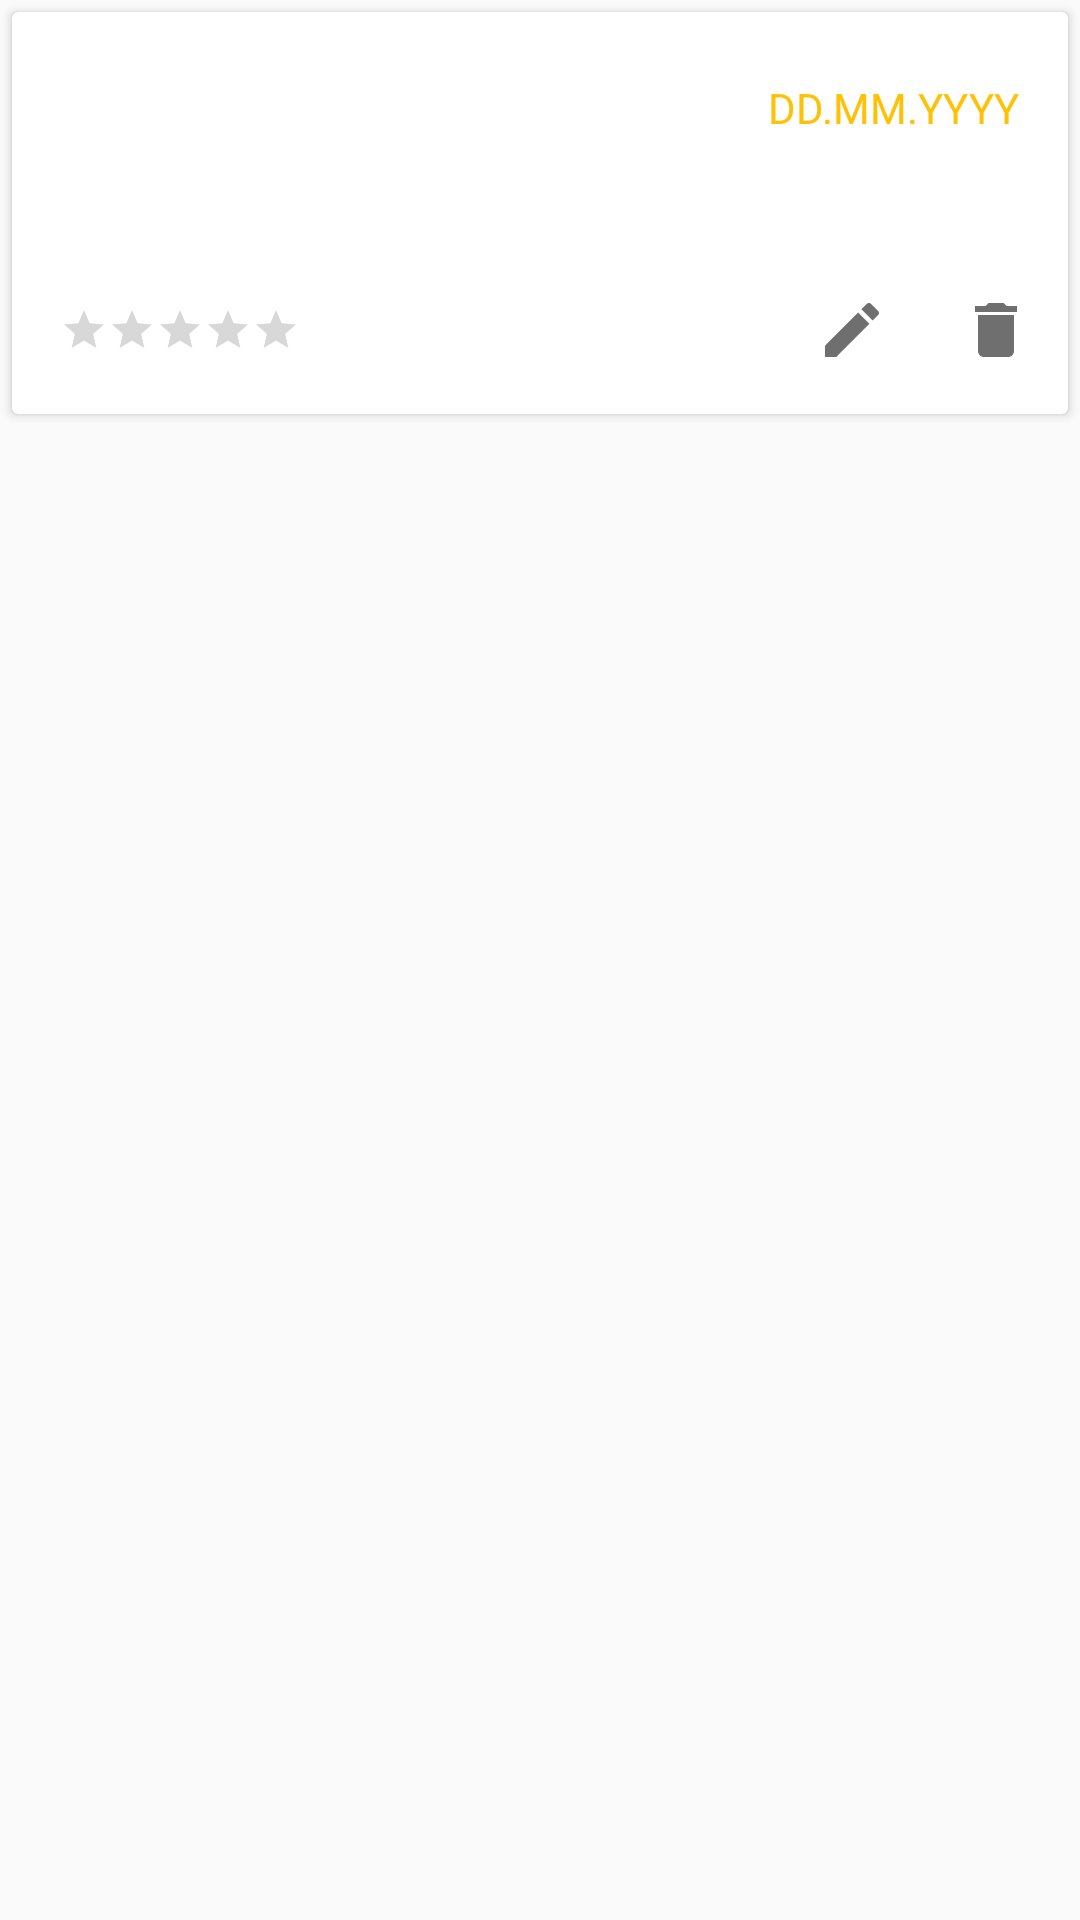

Where to tap for icons on this 1080*1920 app screen, as (x,y):
delete: (996,330)
edit: (852,330)
